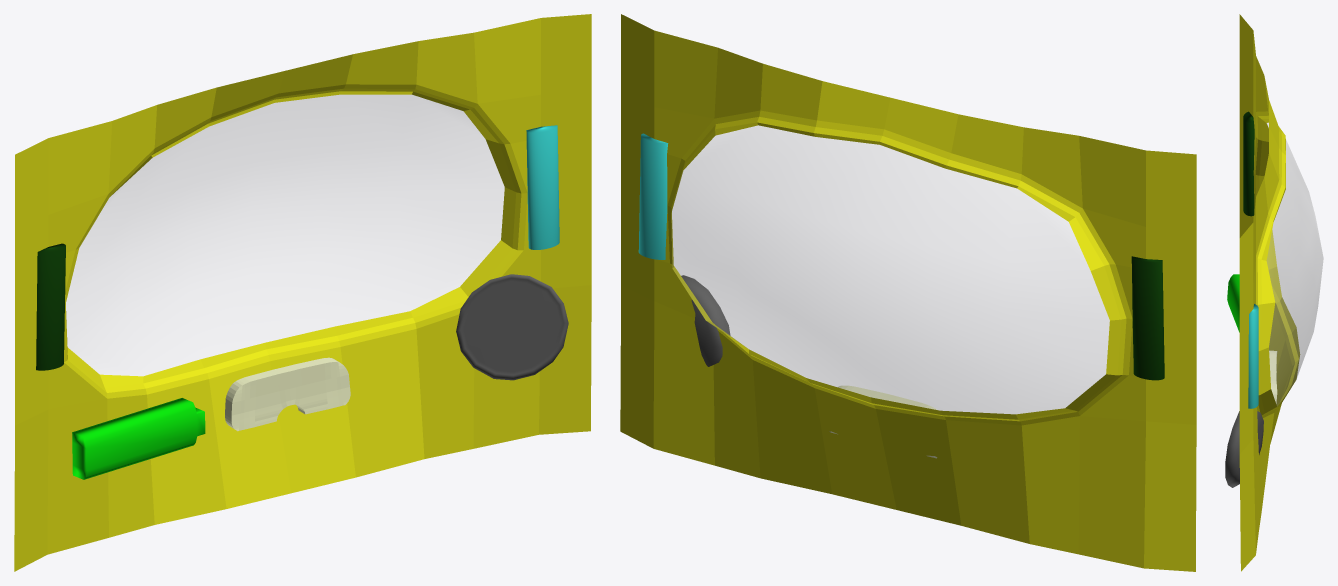
The model's file is InsideSub_014_2_fixed.fbx.
3 renders of one model, left to right at view 1: azimuth 30°, elevation 25°; view 2: azimuth 150°, elevation 25°; view 3: azimuth 270°, elevation 25°, orthographic. The views are drawn at different scales.
Parts seen in each view (by area): view 1: Plane, radar, Cube, Plane.001, Cylinder.002, Cylinder.001; view 2: Plane, Cylinder.001, Cylinder.002, radar; view 3: Plane, Cylinder.001, Cylinder.002, radar, Cube, Plane.001.
Boxes of the visible parts, <box> form: Plane: <box>14,14,591,571</box>; radar: <box>456,274,568,380</box>; Cube: <box>72,398,205,479</box>; Plane.001: <box>225,357,350,431</box>; Cylinder.002: <box>526,125,559,249</box>; Cylinder.001: <box>36,243,65,370</box>; Plane: <box>620,14,1196,571</box>; Cylinder.001: <box>1131,256,1164,380</box>; Cylinder.002: <box>638,133,668,259</box>; radar: <box>681,275,730,366</box>; Plane: <box>1239,14,1323,571</box>; Cylinder.001: <box>1243,111,1254,216</box>; Cylinder.002: <box>1248,304,1258,408</box>; radar: <box>1225,411,1263,487</box>; Cube: <box>1227,274,1239,332</box>; Plane.001: <box>1269,350,1277,403</box>.
Size of the model in its own units: 530 by 367 by 98.14.
